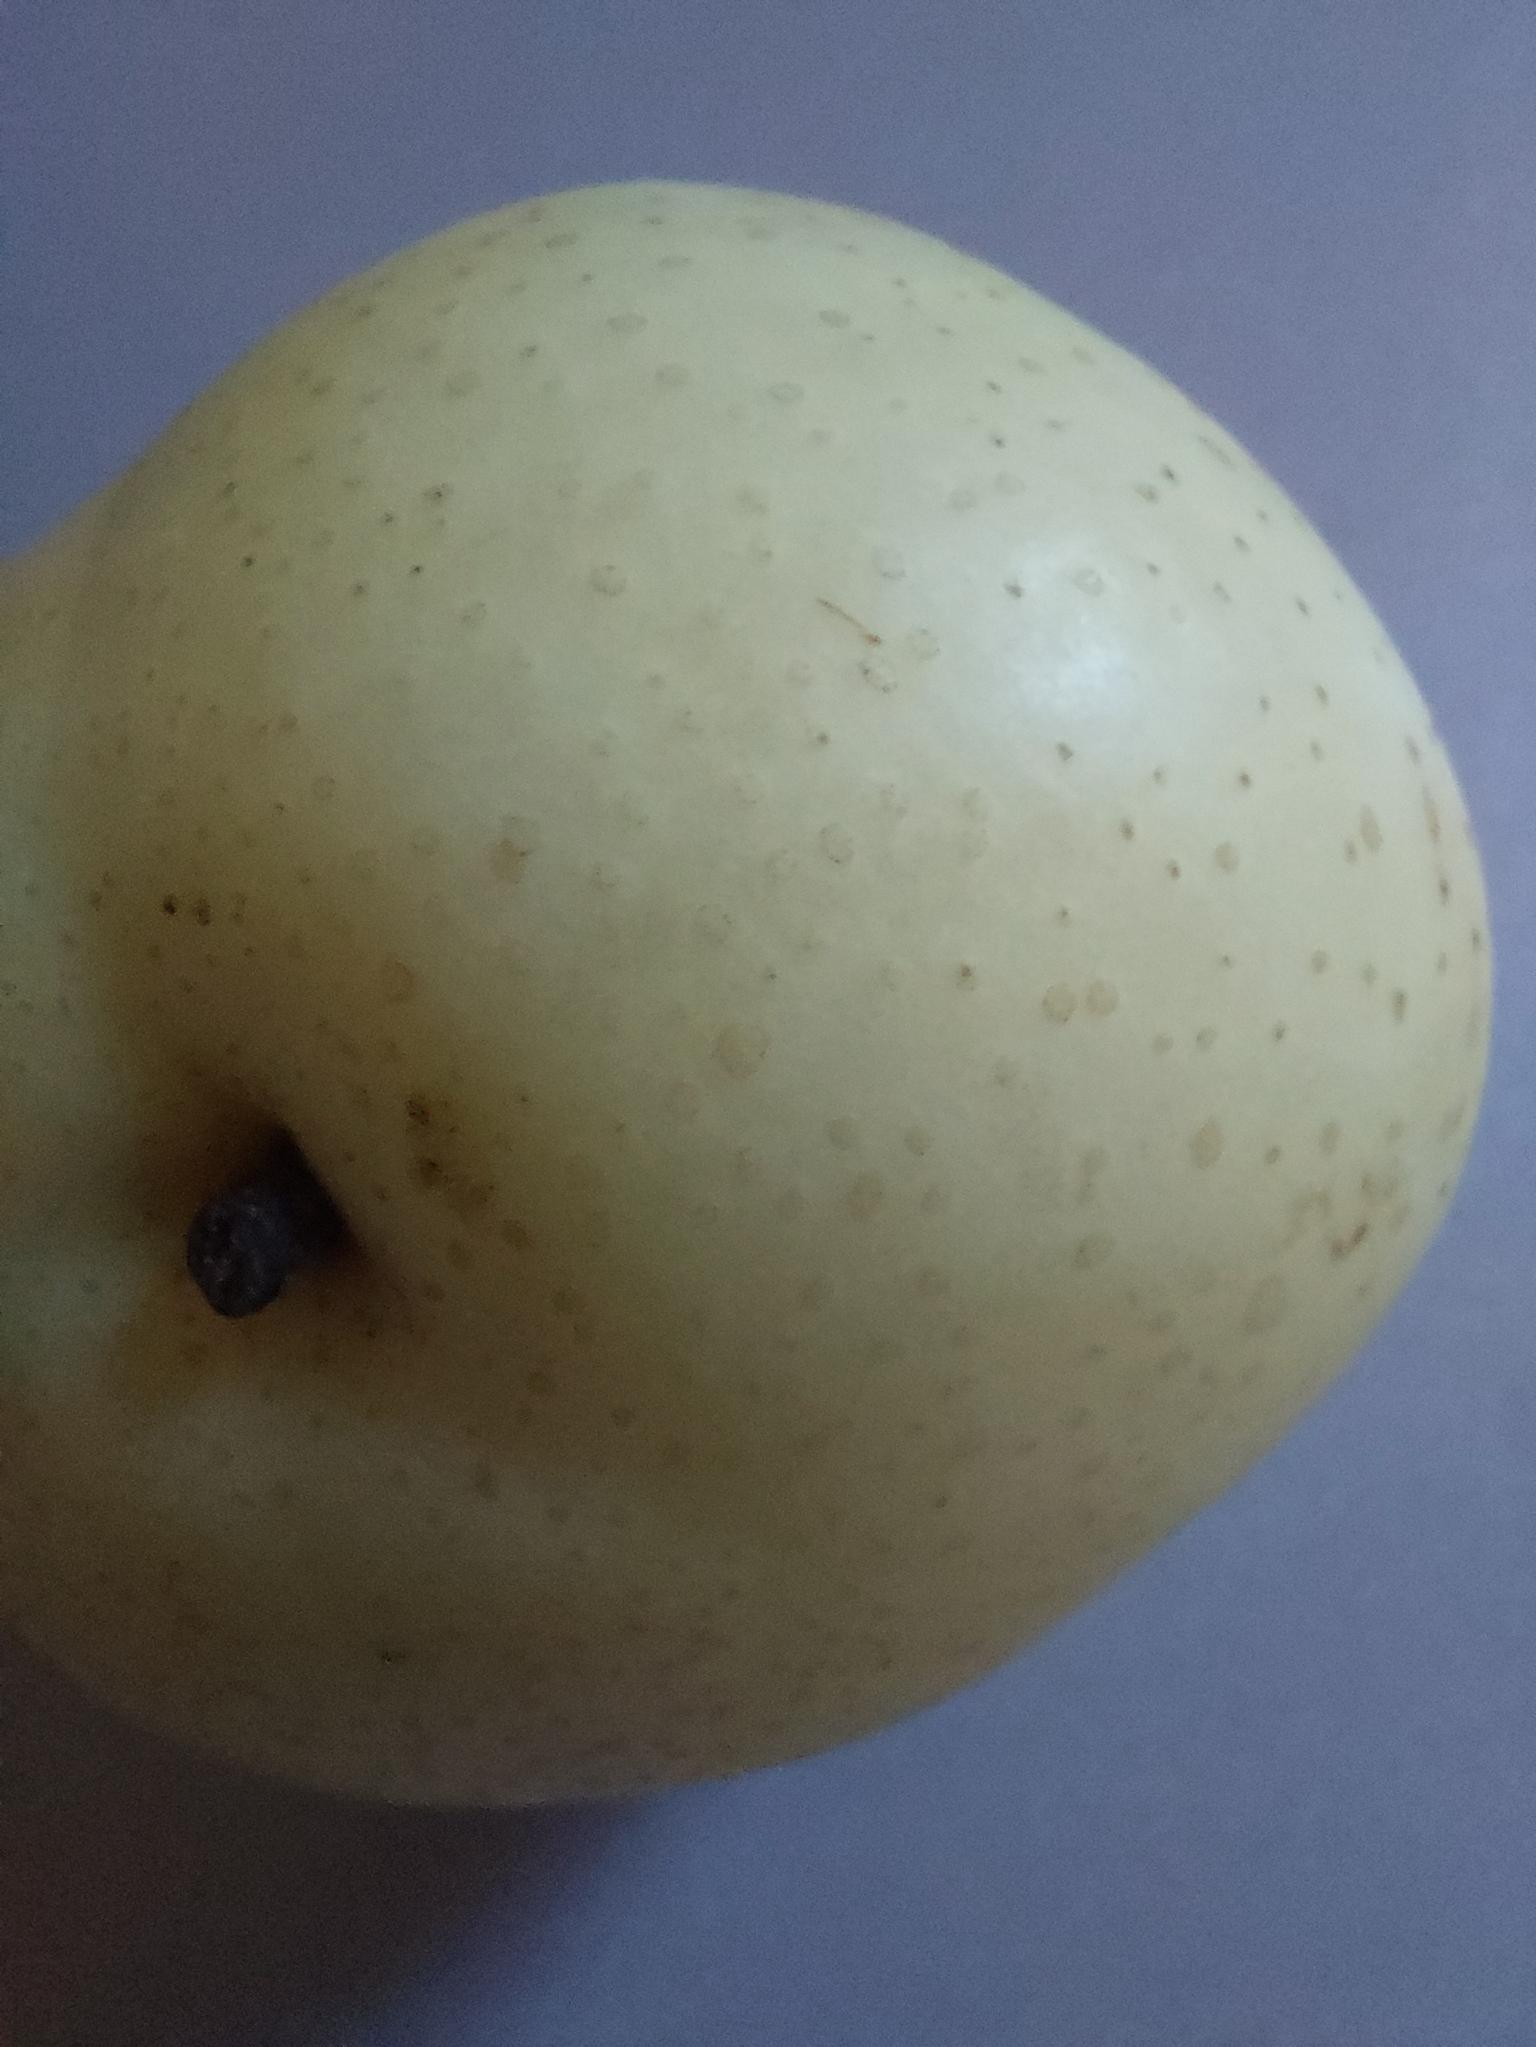Good Pear: (3, 184, 1504, 1873)
